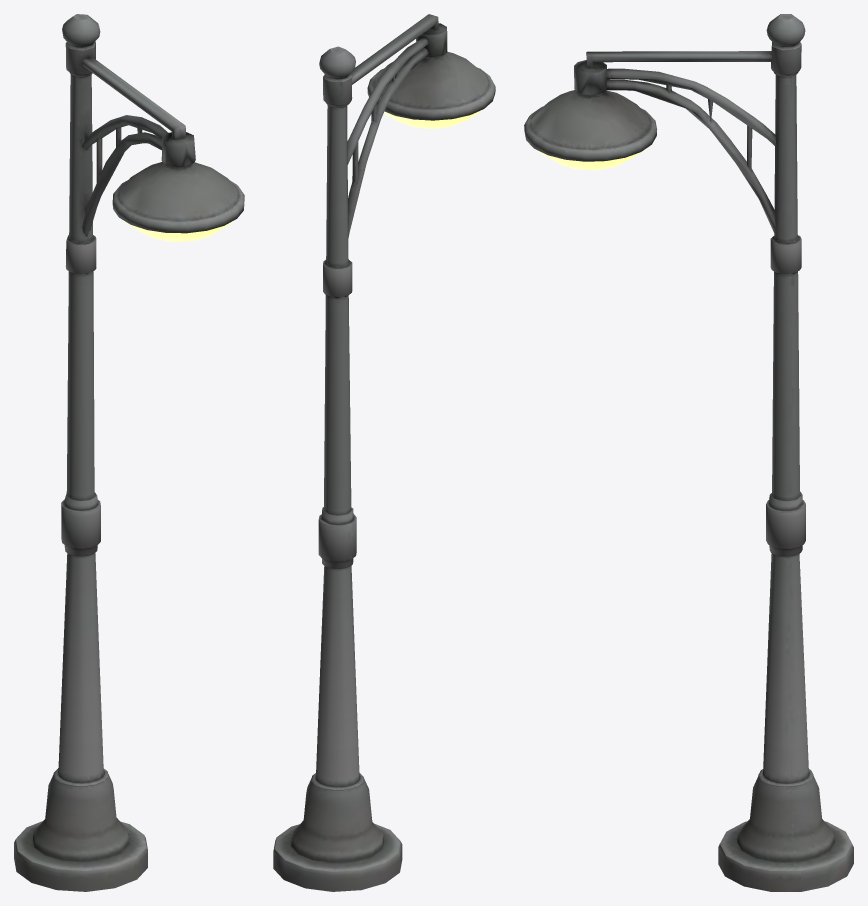
File: farol.glb
The picture shows the model from 3 angles, left to right: view 1: azimuth 30°, elevation 25°; view 2: azimuth 150°, elevation 25°; view 3: azimuth 270°, elevation 25°; orthographic projection. The views are drawn at different scales.
Visible parts, largest first — view 1: SM_Street_Light; view 2: SM_Street_Light; view 3: SM_Street_Light.
Boxes of the visible parts, x1,y1,x2,y2 form: SM_Street_Light: [14, 14, 244, 891]; SM_Street_Light: [273, 14, 495, 891]; SM_Street_Light: [524, 14, 853, 891].
Size of the model in its own units: 0.4259 by 2.99 by 1.06.
Materials: 2 (2 with a texture image).
